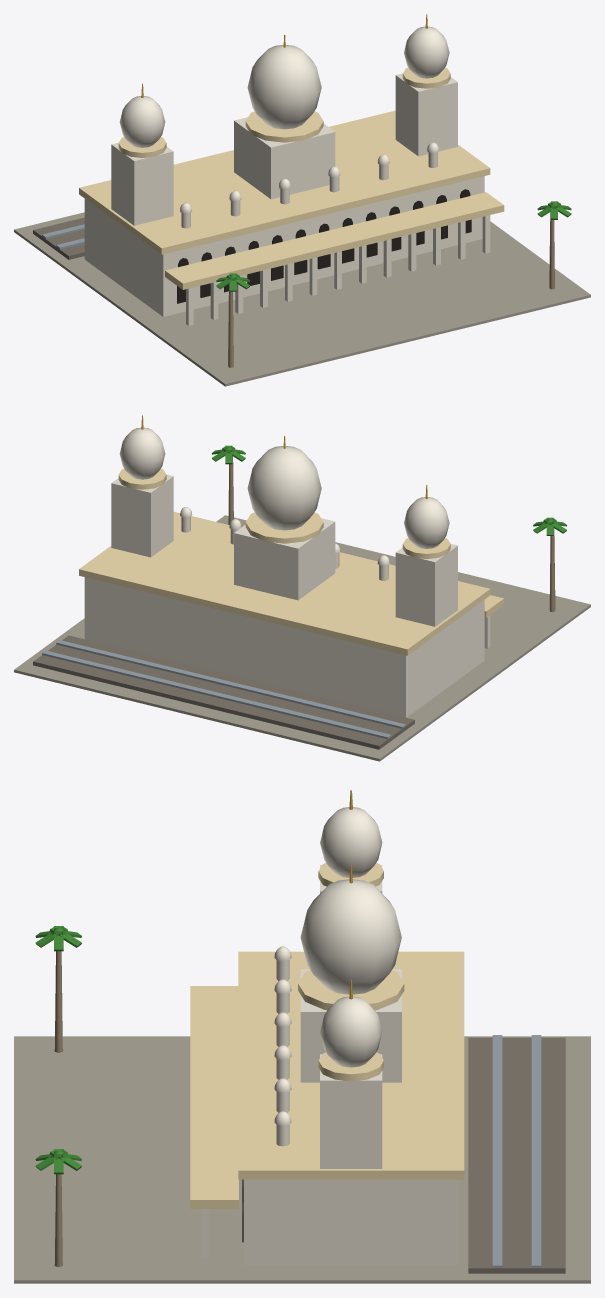
The model's file is building_bangunan_moorish.glb.
The picture shows the model from 3 angles, top to bottom: view 1: azimuth 30°, elevation 25°; view 2: azimuth 150°, elevation 25°; view 3: azimuth 270°, elevation 25°; orthographic projection. The views are drawn at different scales.
Visible parts, largest first — view 1: building_bangunan_moorish; view 2: building_bangunan_moorish; view 3: building_bangunan_moorish.
Part boxes in pixels (<box>): building_bangunan_moorish: <box>14,14,590,386</box>; building_bangunan_moorish: <box>14,415,590,761</box>; building_bangunan_moorish: <box>14,790,590,1283</box>.
Bounding box in the file's own units: 2.96 × 1.68 × 2.96.
